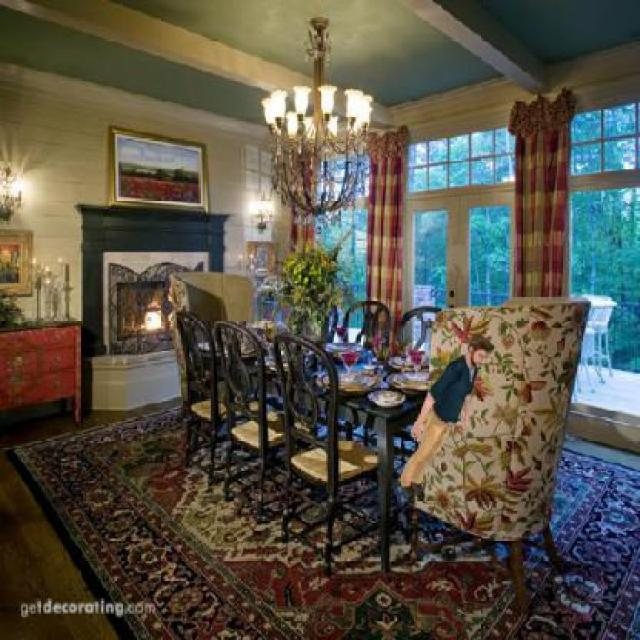Person: (395, 330, 497, 504)
